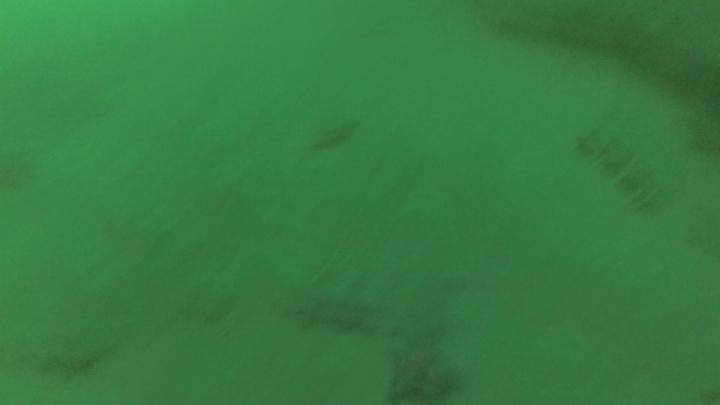holothurian: (577, 122, 663, 217), (274, 281, 389, 336)
starfish: (376, 325, 467, 405)
